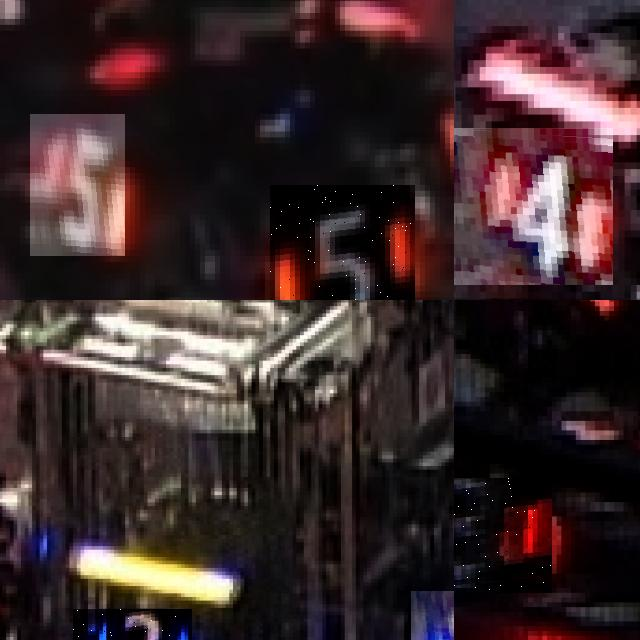B2: (73, 609, 192, 640), (411, 591, 454, 640)
R3: (454, 478, 552, 592)
R4: (454, 128, 612, 284)
R5: (270, 185, 415, 300), (30, 114, 125, 256)
